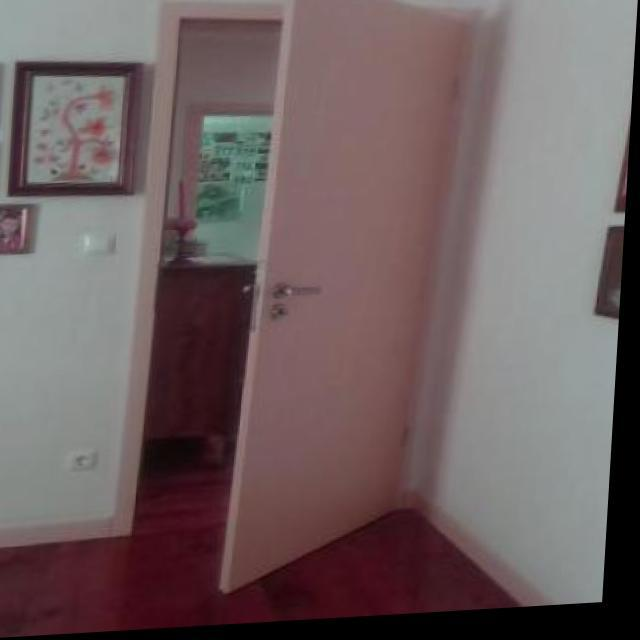door_handle: (270, 274, 342, 309)
